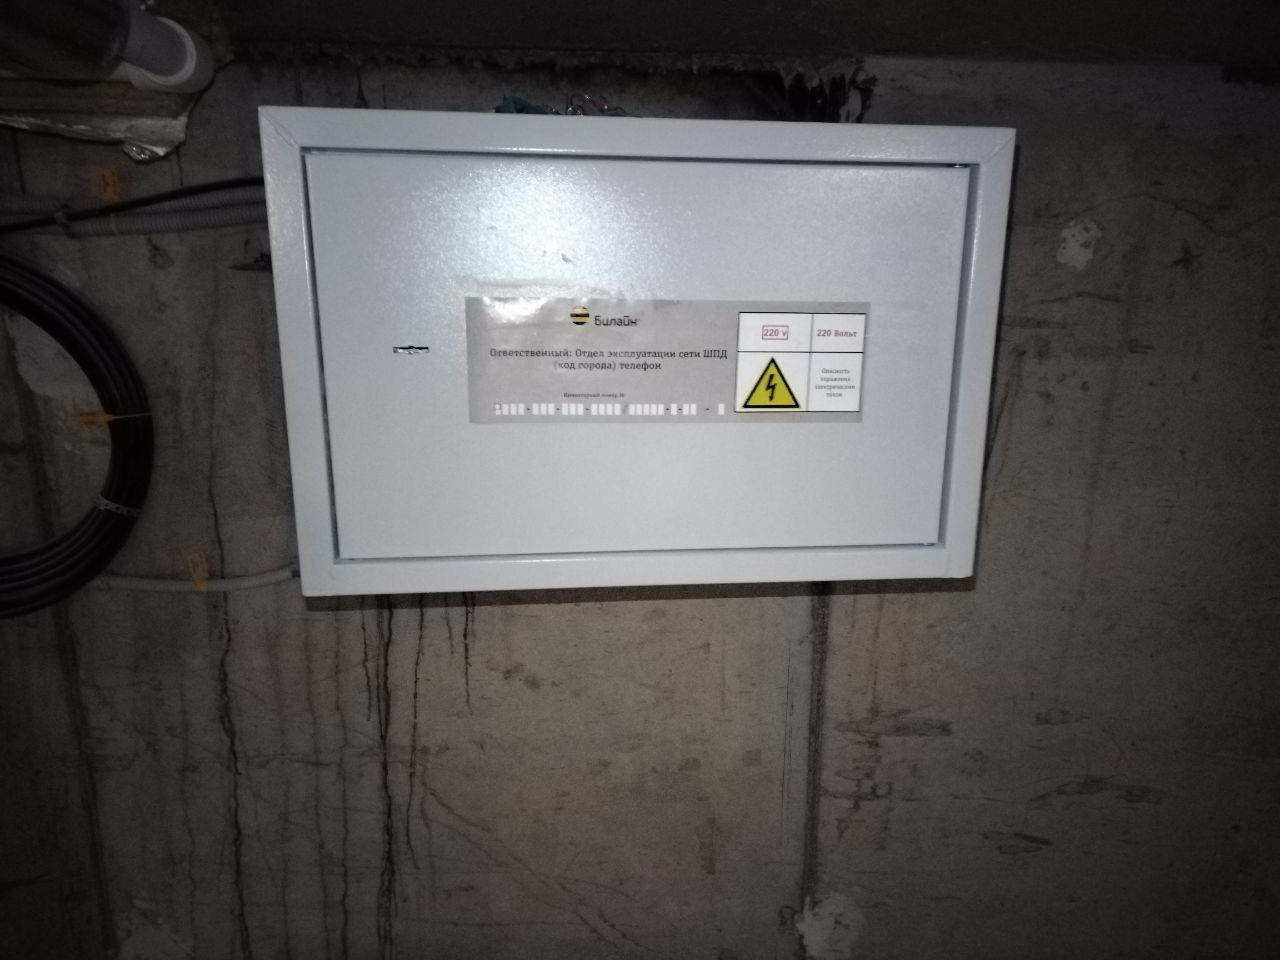shta-7m: (243, 89, 1028, 604)
